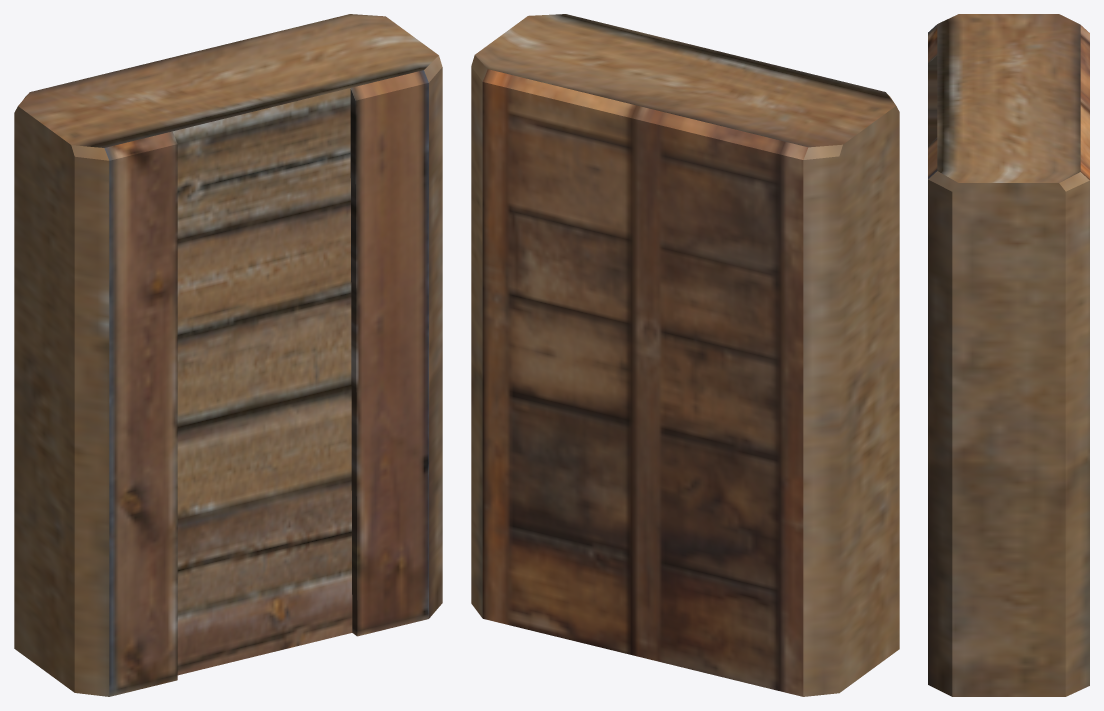
Rendered from Cabin_Wall_Small.obj.
3 views of the same model, side by side, from view 1: azimuth 30°, elevation 25°; view 2: azimuth 150°, elevation 25°; view 3: azimuth 270°, elevation 25° (orthographic). The views are drawn at different scales.
Visible parts, largest first — view 1: LowPoly_Cube; view 2: LowPoly_Cube; view 3: LowPoly_Cube.
Part boxes in pixels (box(x1,y1,x2,y2)): LowPoly_Cube: box(14, 14, 442, 696); LowPoly_Cube: box(471, 14, 899, 696); LowPoly_Cube: box(928, 14, 1089, 696).
Size of the model in its own units: 0.9881 by 1.4 by 0.3999.
